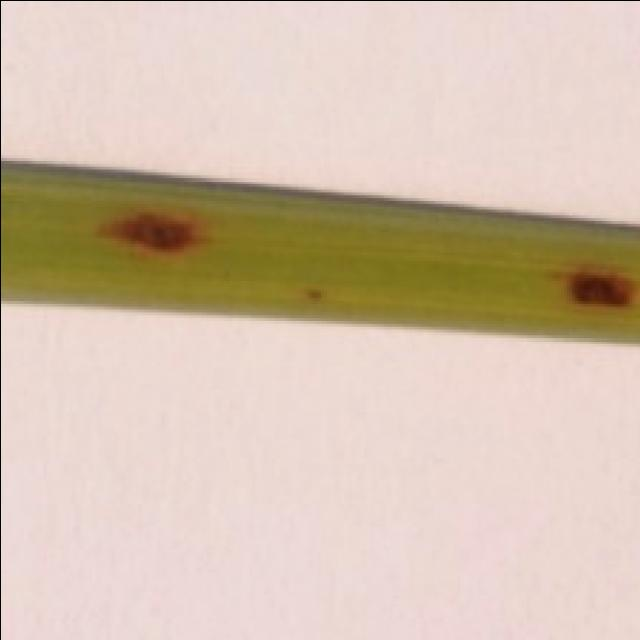Unhealthy: (92, 206, 217, 262), (562, 263, 640, 310), (303, 283, 323, 302)
